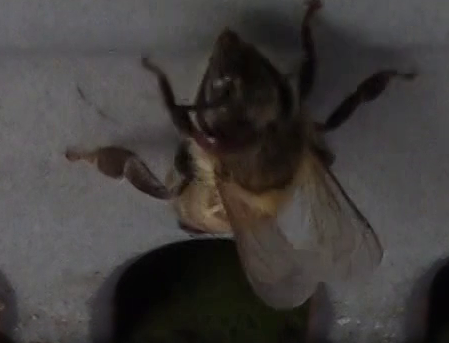Varroa destructor: (198, 131, 244, 157)
